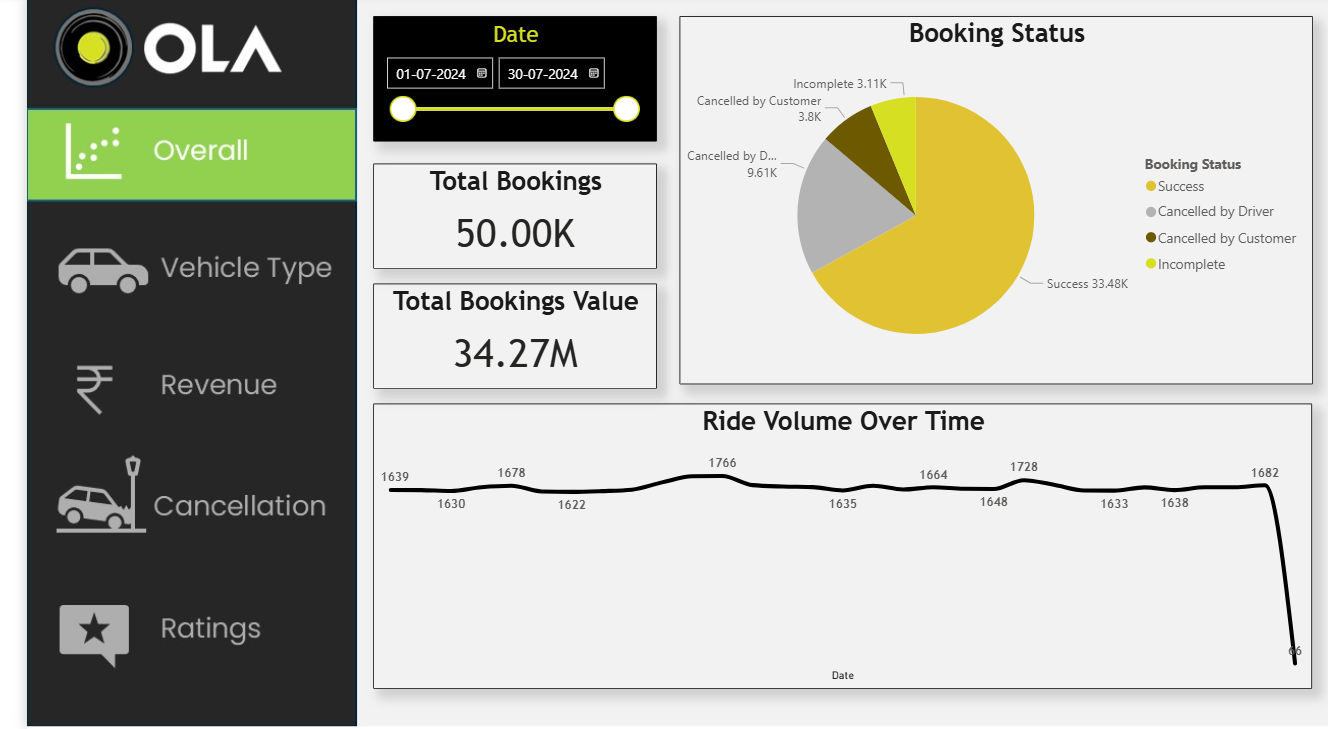

The page's visual inventory and layout, read from the dashboard file:
{"tool":"powerbi","page":{"name":"Overall","canvas":[1280,720],"ordinal":0},"visuals":[{"type":"actionButton","box":[0,222,324,94],"z":0},{"type":"actionButton","box":[0,334,324,94],"z":1000},{"type":"actionButton","box":[0,446,324,94],"z":2000},{"type":"actionButton","box":[0,572,324,94],"z":3000},{"type":"pieChart","title":"Booking Status ","fields":{"Category":["Bengaluru_Ola_Booking_Data.Booking Status"],"Y":["CountNonNull(Bengaluru_Ola_Booking_Data.Booking ID)"]},"box":[640,20,621.7,361.7],"z":5000},{"type":"slicer","title":"Date","fields":{"Values":["July.Date"]},"box":[340,20,278.3,123.3],"z":6000},{"type":"card","title":"Total Bookings","fields":{"Values":["CountNonNull(Bengaluru_Ola_Booking_Data.Booking ID)"]},"box":[340,165,278.3,103.3],"z":7000},{"type":"card","title":"Total Bookings Value","fields":{"Values":["Sum(Bengaluru_Ola_Booking_Data.Booking Value)"]},"box":[340,281.7,278.3,103.3],"z":8000},{"type":"lineChart","title":"Ride Volume Over Time","fields":{"Y":["CountNonNull(Bengaluru_Ola_Booking_Data.Booking ID)"],"Category":["Bengaluru_Ola_Booking_Data.Date"]},"box":[340,400,921.7,280],"z":8001}]}

Visuals, with their boxes in screenshot pixels (x1, y1, x2, y2), scaled from the page's 1280x720 canvas onto the 1328x729 screenshot:
actionButton: bbox(0, 225, 336, 320)
actionButton: bbox(0, 338, 336, 433)
actionButton: bbox(0, 452, 336, 547)
actionButton: bbox(0, 579, 336, 674)
"Booking Status " pieChart: bbox(664, 20, 1309, 386)
"Date" slicer: bbox(353, 20, 641, 145)
"Total Bookings" card: bbox(353, 167, 641, 272)
"Total Bookings Value" card: bbox(353, 285, 641, 390)
"Ride Volume Over Time" lineChart: bbox(353, 405, 1309, 688)
